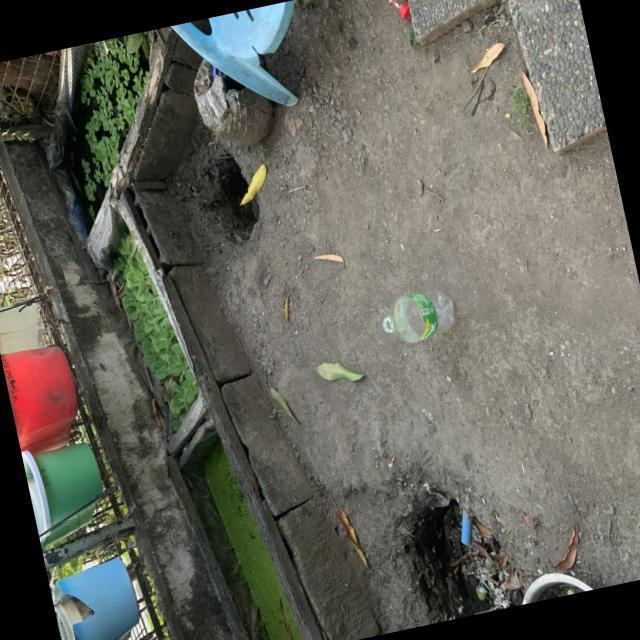Bottle: (382, 289, 454, 341)
